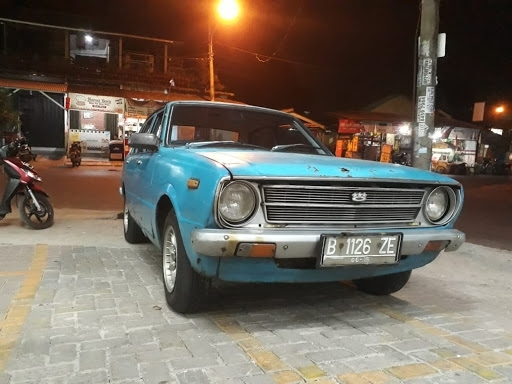plate: (324, 235, 398, 264)
